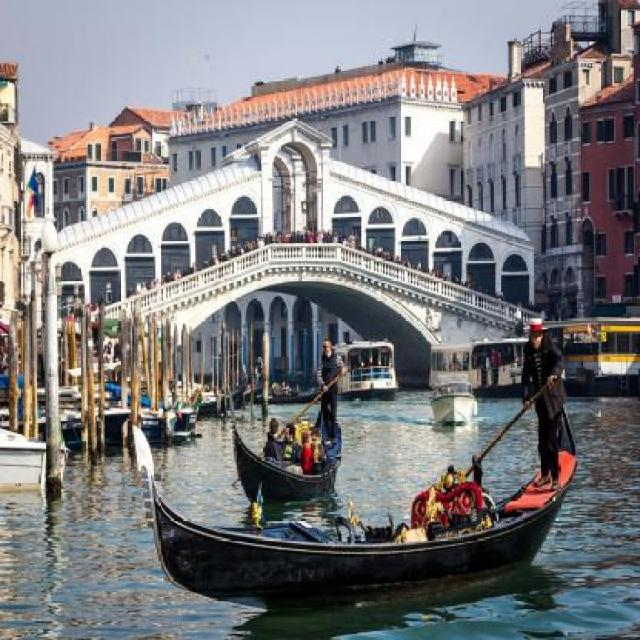ship: (132, 394, 578, 608), (231, 417, 344, 503), (104, 363, 245, 415), (333, 340, 398, 398), (429, 373, 474, 424), (268, 388, 323, 401)
